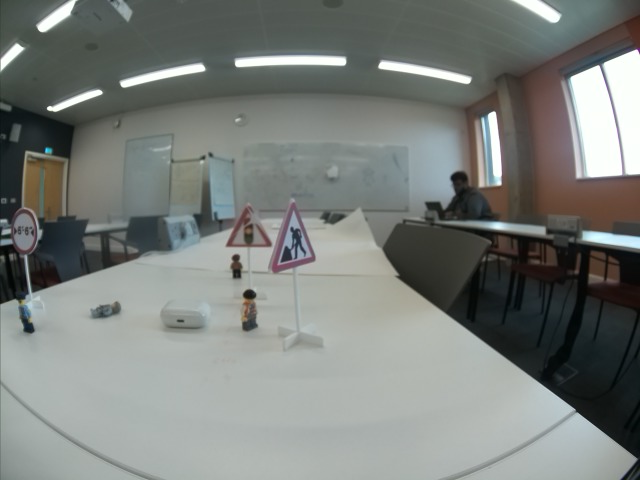6ft6: (11, 206, 40, 255)
Lego Man: (15, 289, 37, 333), (239, 290, 260, 332), (89, 299, 121, 319), (230, 252, 245, 278)
Roadworks: (268, 199, 320, 274)
Traffic lights: (226, 204, 271, 246)
